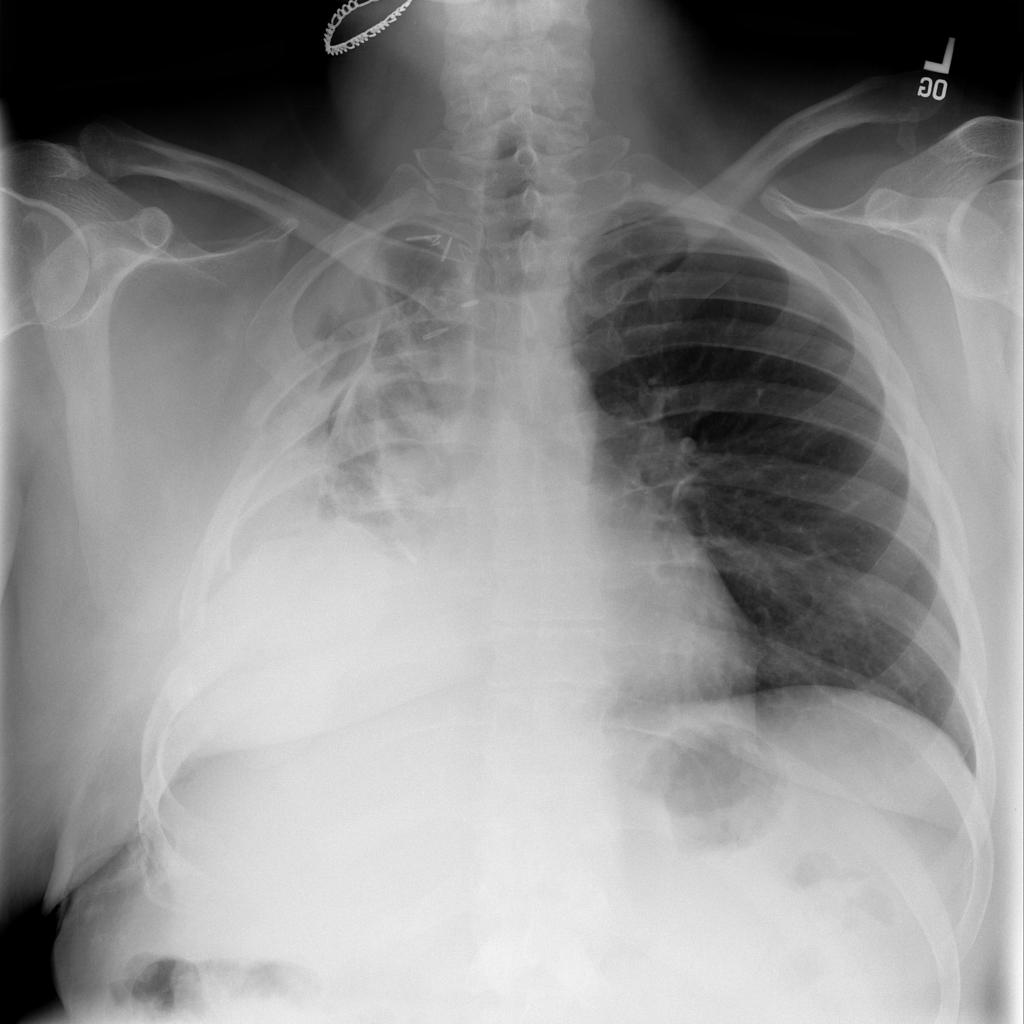nodule: (804, 334, 861, 381)
